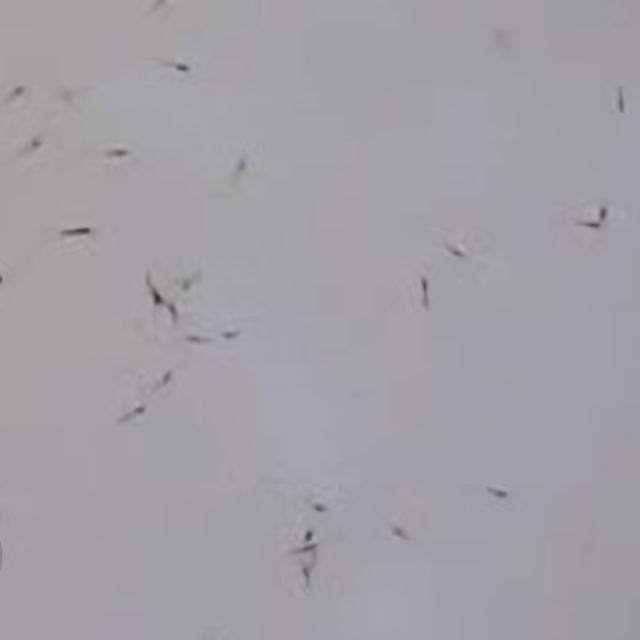shrimp-seed: (596, 60, 637, 130), (208, 144, 260, 196), (139, 357, 197, 396), (404, 265, 443, 322), (114, 264, 159, 310), (144, 47, 202, 80), (111, 397, 159, 436), (14, 132, 56, 175), (51, 212, 108, 243), (378, 512, 422, 552), (430, 231, 474, 270), (280, 563, 332, 596), (98, 134, 144, 170), (548, 210, 609, 237), (172, 261, 222, 290), (471, 479, 516, 511), (160, 298, 196, 338), (585, 181, 621, 219), (259, 536, 335, 554), (307, 484, 345, 518), (0, 74, 36, 105), (172, 329, 222, 347), (289, 519, 327, 542)
